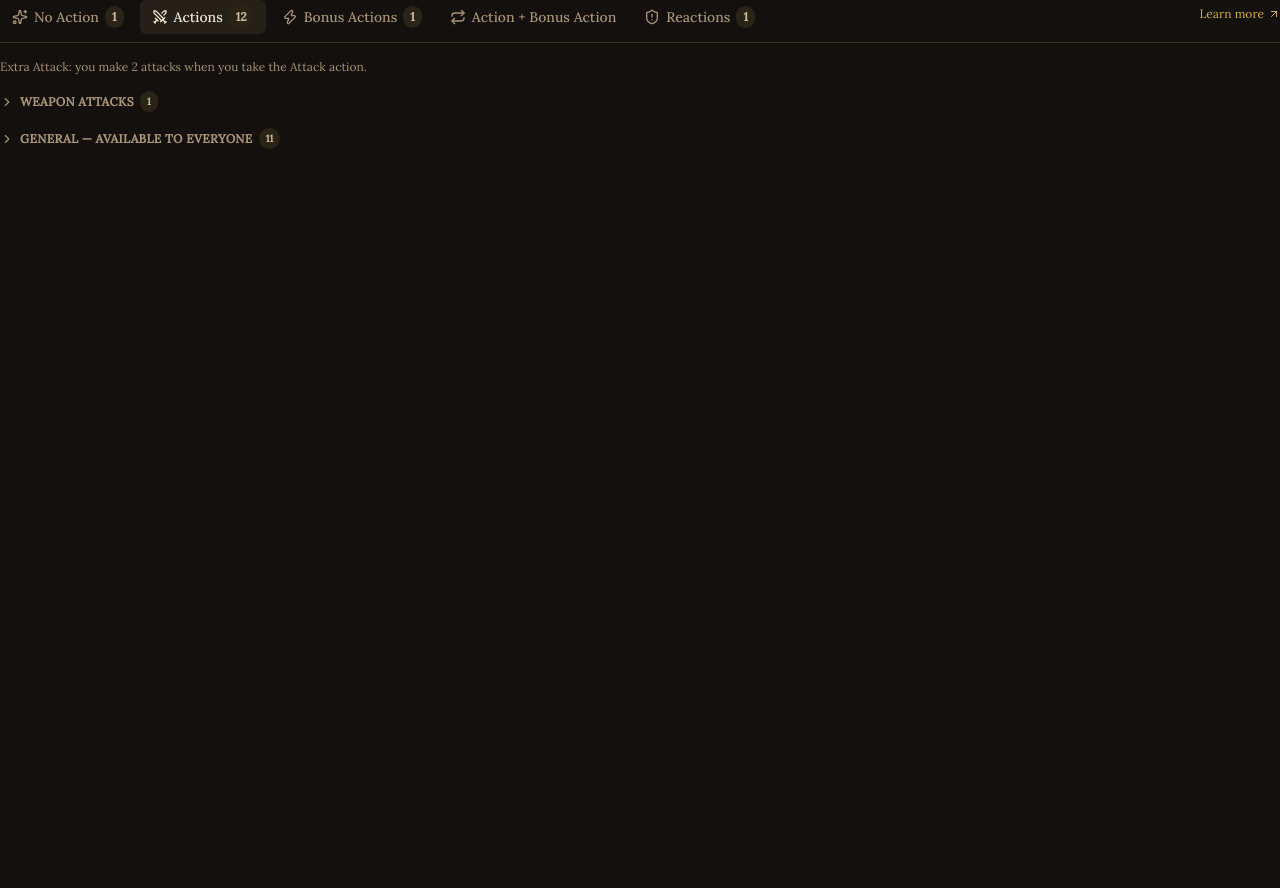
Scenario: ActionEconomyTab › hides the Use button in readOnly mode
Click the button "Weapon Attacks 1" at {"x": 77, "y": 101}, box [0,91,1279,112]
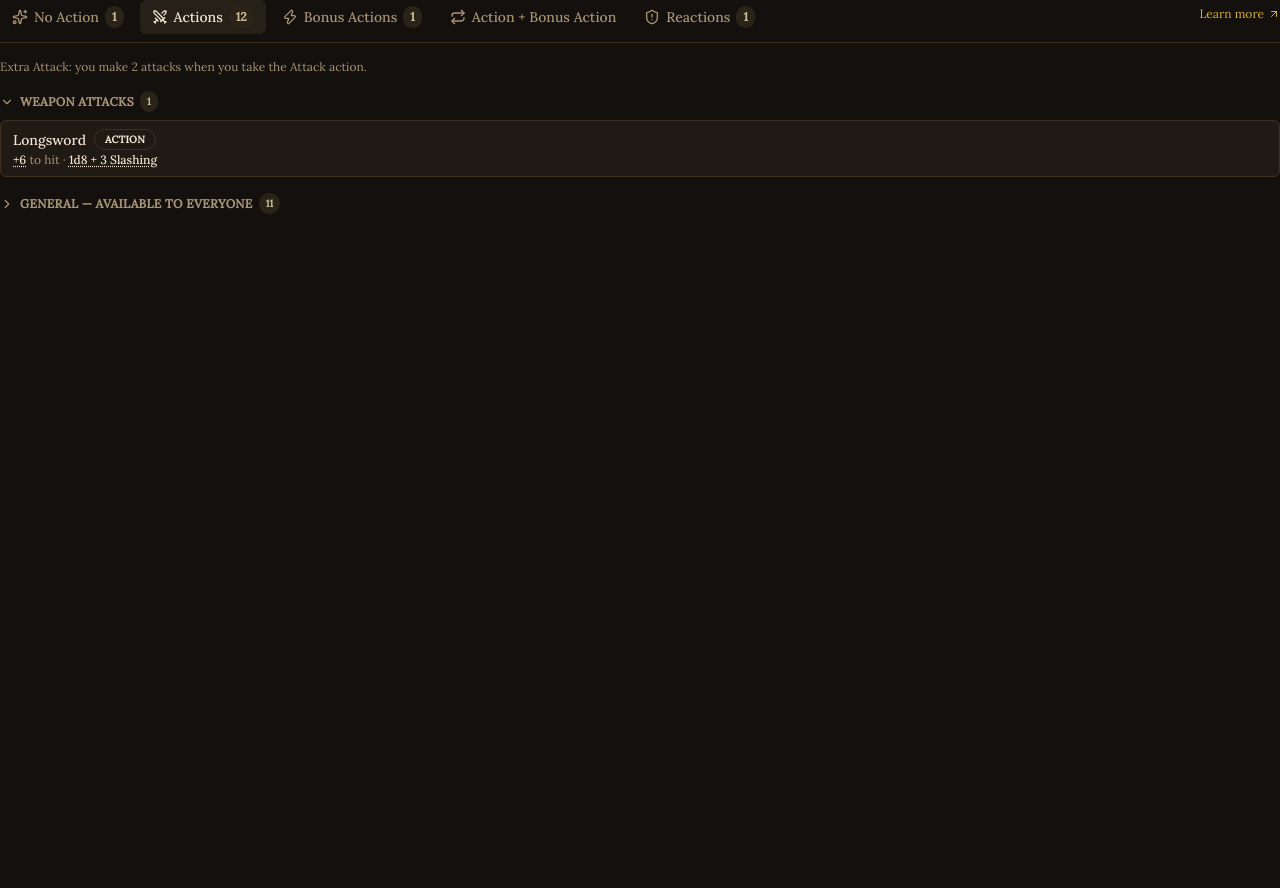
Click the button "General — available to everyone 11" at {"x": 136, "y": 203}, box [0,193,1279,214]
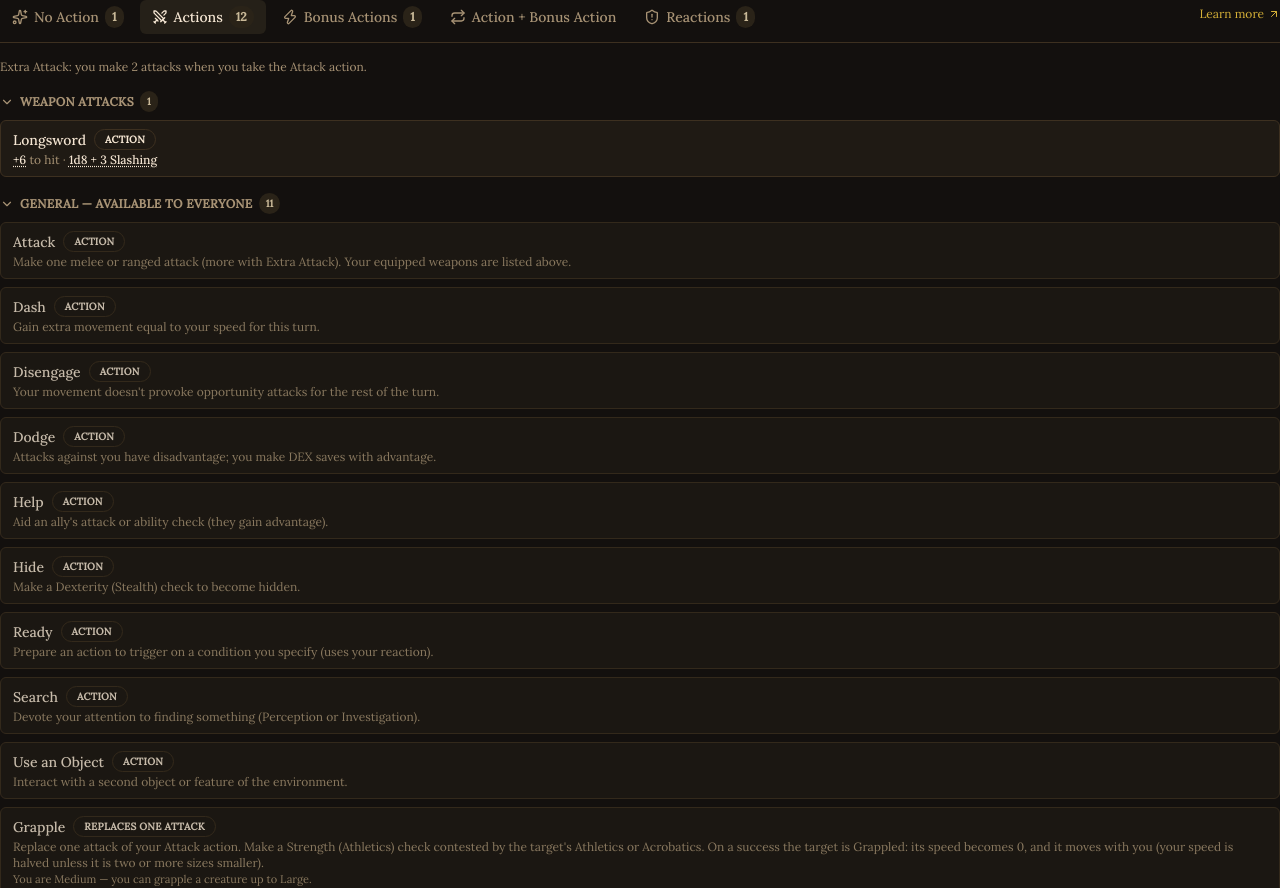
Click the button with test id "ae-subtab-bonus" at {"x": 352, "y": 17}, box [270,0,434,34]
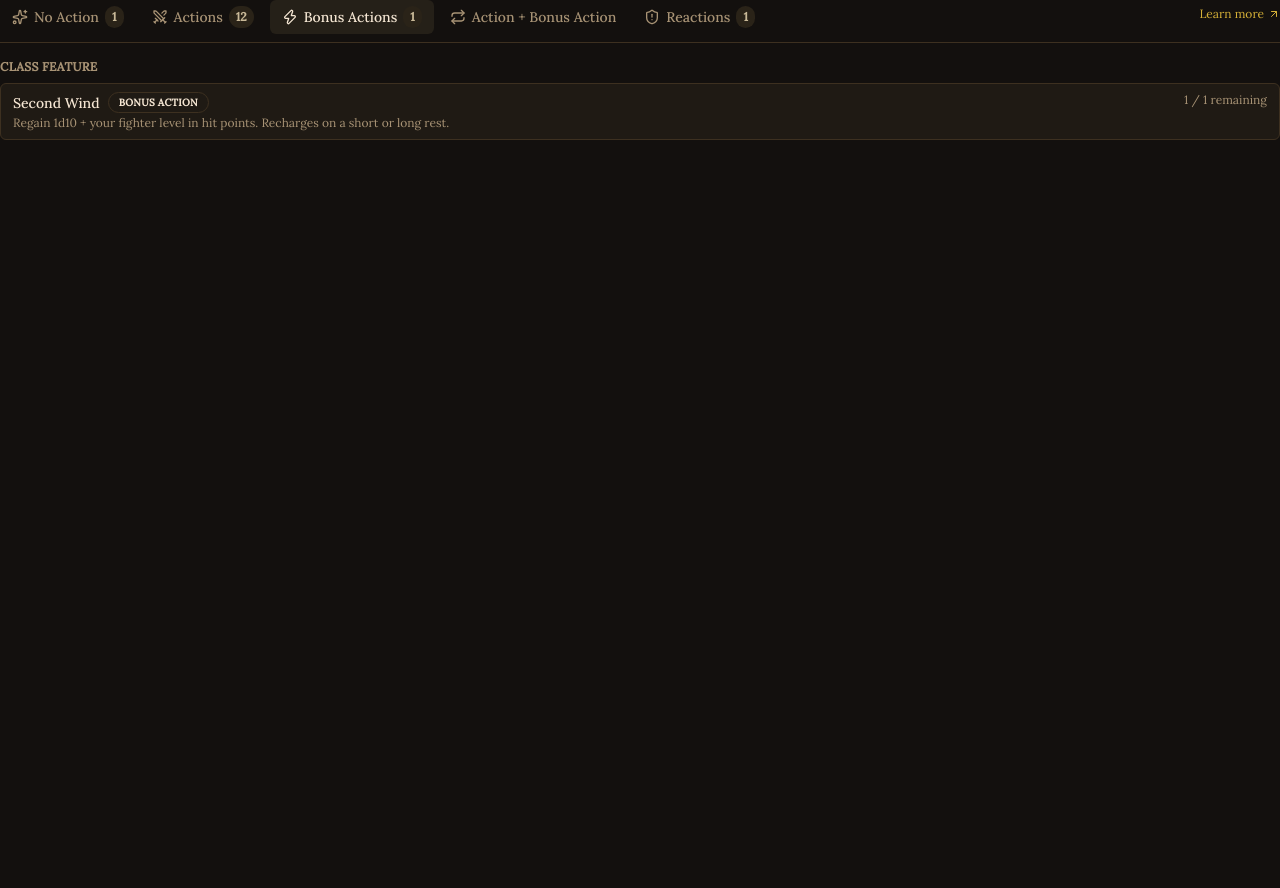
Check: the text "Second Wind" is shown, box [13,92,100,112]
